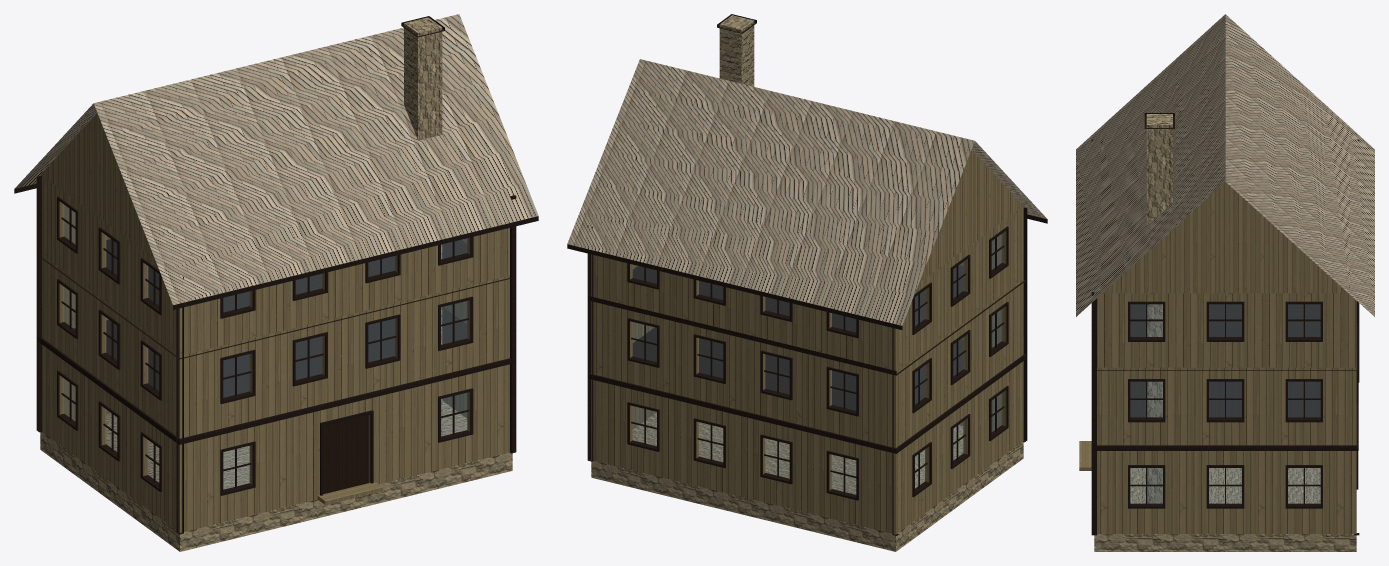
Rendered from inn_01.glb.
3 views of the same model, side by side, from view 1: azimuth 30°, elevation 25°; view 2: azimuth 150°, elevation 25°; view 3: azimuth 270°, elevation 25° (orthographic). The views are drawn at different scales.
Parts seen in each view (by area): view 1: inn_01; view 2: inn_01; view 3: inn_01.
Boxes of the visible parts, x1,y1,x2,y2 form: inn_01: (14,14,538,551); inn_01: (567,14,1047,551); inn_01: (1076,14,1374,551).
Bounding box in the file's own units: 12.1 × 13.7 × 9.1.
6 materials, 5 textured.
